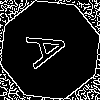A: (25, 25, 79, 71)
